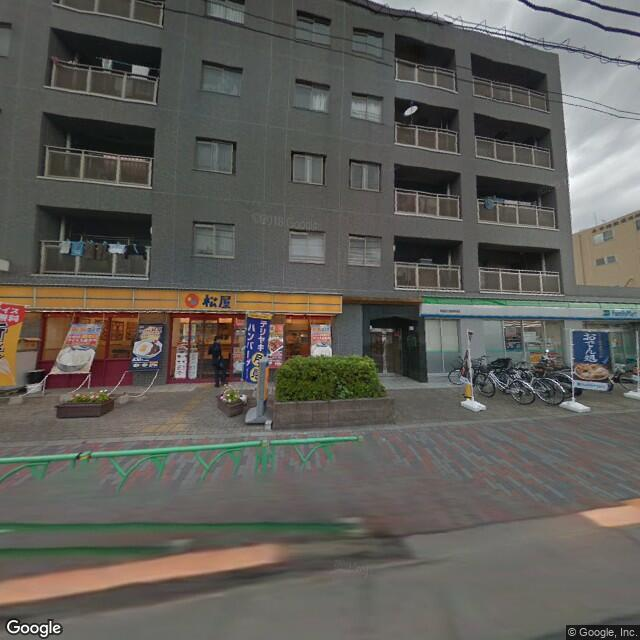family_mart: (421, 298, 640, 322)
